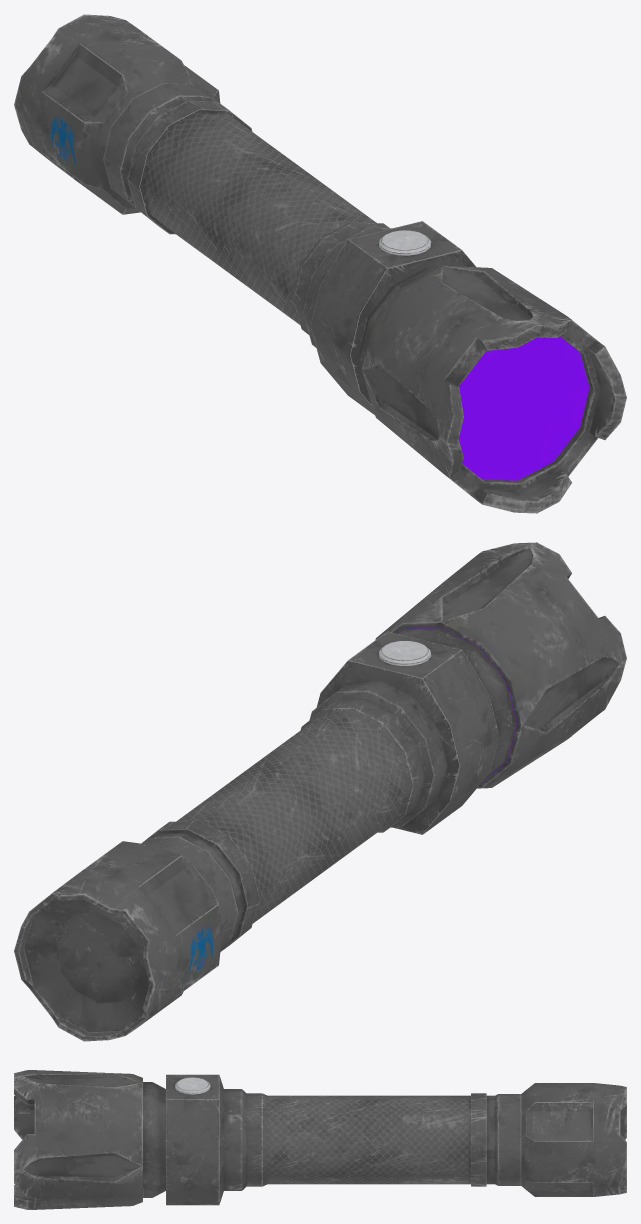
Rendered from uv_flashlight.glb.
The picture shows the model from 3 angles, top to bottom: view 1: azimuth 30°, elevation 25°; view 2: azimuth 150°, elevation 25°; view 3: azimuth 270°, elevation 25°; orthographic projection. The views are drawn at different scales.
Visible parts, largest first — view 1: Cube; view 2: Cube; view 3: Cube.
Part boxes in pixels (bbox=[...]): Cube: bbox=[14, 14, 626, 513]; Cube: bbox=[14, 542, 626, 1041]; Cube: bbox=[14, 1070, 626, 1209].
Bounding box in the file's own units: 0.0505 × 0.0505 × 0.2206.
Materials: 1 (1 with a texture image).
